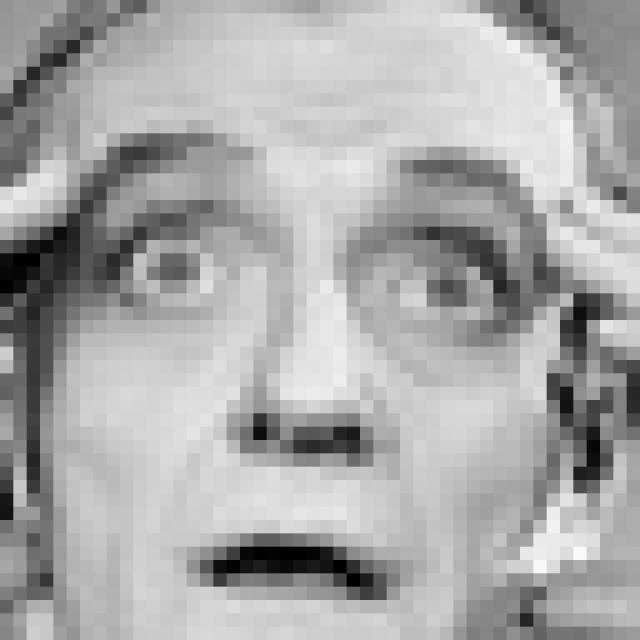fear: (79, 113, 558, 633)
